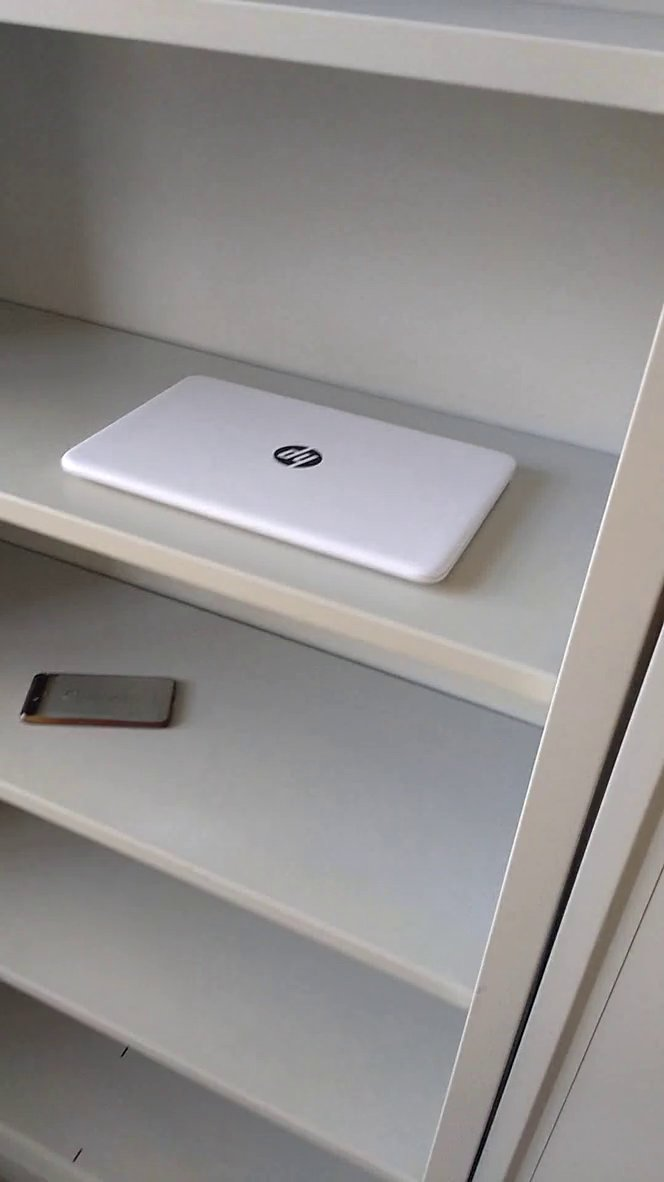laptop: (48, 366, 537, 612)
phone: (13, 662, 197, 741)
